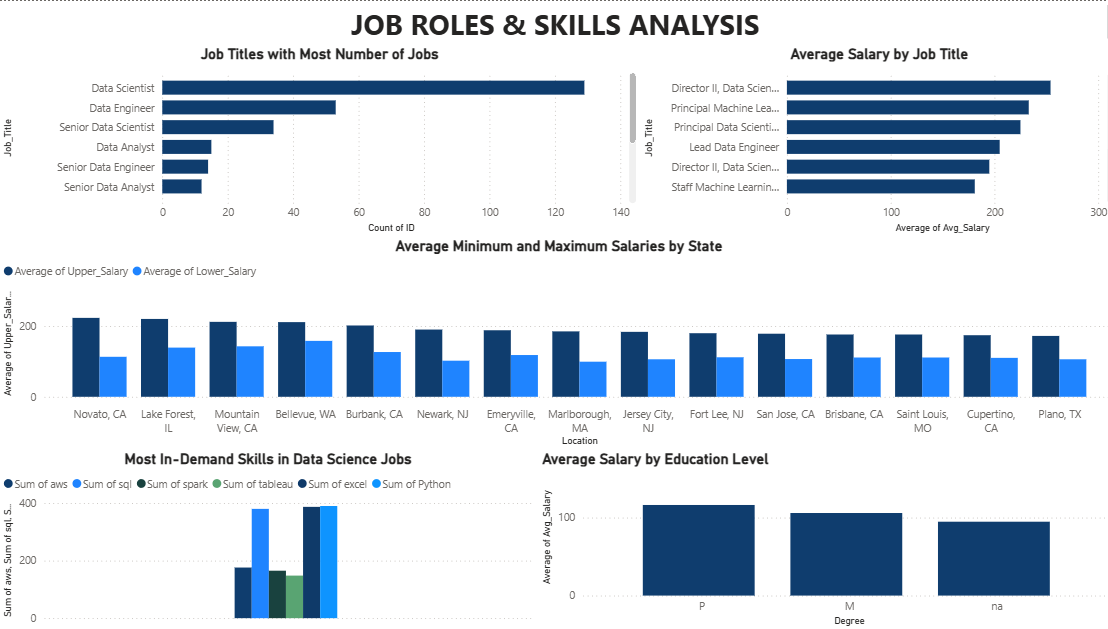

What the dashboard file says about the page in this screenshot:
{"tool":"powerbi","page":{"name":"Page 2","canvas":[1280,720],"ordinal":1},"visuals":[{"type":"clusteredColumnChart","title":"Average Minimum and Maximum Salaries by State","fields":{"Category":["Job_Table.Location"],"Y":["Avg(Job_Table.Upper_Salary)","Avg(Job_Table.Lower_Salary)"]},"box":[0,270,1280,243.3],"z":0},{"type":"clusteredBarChart","title":"Job Titles with Most Number of Jobs","fields":{"Category":["Job_Table.Job_Title"],"Y":["CountNonNull(Job_Table.ID)"]},"box":[0,50,733.3,220],"z":1},{"type":"clusteredBarChart","title":"Average Salary by Job Title","fields":{"Category":["Job_Table.Job_Title"],"Y":["Avg(Job_Table.Avg_Salary)"]},"box":[733.3,50,546.7,220],"z":2},{"type":"clusteredColumnChart","title":"Most In-Demand Skills in Data Science Jobs","fields":{"Y":["Sum(Job_Table.aws)","Sum(Job_Table.sql)","Sum(Job_Table.spark)","Sum(Job_Table.tableau)","Sum(Job_Table.excel)","Sum(Job_Table.Python)"]},"box":[0,513.3,615,206.7],"z":3},{"type":"clusteredColumnChart","title":"Average Salary by Education Level","fields":{"Category":["Job_Table.Degree"],"Y":["Avg(Job_Table.Avg_Salary)"]},"box":[615,513.3,665,206.7],"z":4},{"type":"textbox","box":[0,0,1280,50],"z":5}]}

Visuals, with their boxes in screenshot pixels (x1, y1, x2, y2), scaled from the page's 1280x720 canvas onto the 1108x629 screenshot:
"Average Minimum and Maximum Salaries by State" clusteredColumnChart: l=0, t=236, r=1107, b=448
"Job Titles with Most Number of Jobs" clusteredBarChart: l=0, t=44, r=635, b=236
"Average Salary by Job Title" clusteredBarChart: l=635, t=44, r=1107, b=236
"Most In-Demand Skills in Data Science Jobs" clusteredColumnChart: l=0, t=448, r=532, b=628
"Average Salary by Education Level" clusteredColumnChart: l=532, t=448, r=1107, b=628
textbox: l=0, t=0, r=1107, b=44
